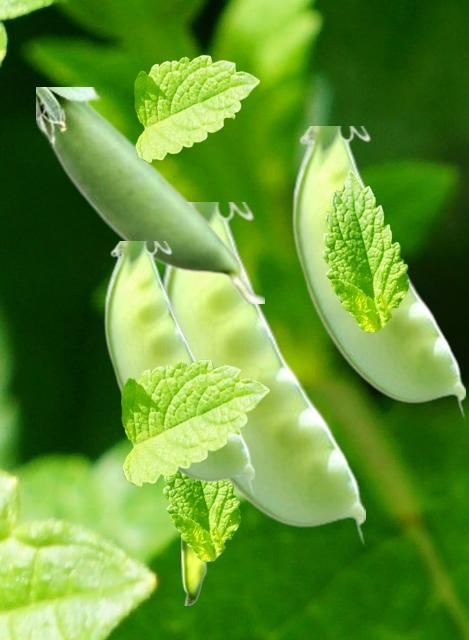pea: (161, 202, 364, 545), (291, 126, 464, 418), (36, 87, 263, 302), (103, 241, 253, 495), (181, 540, 207, 604)
